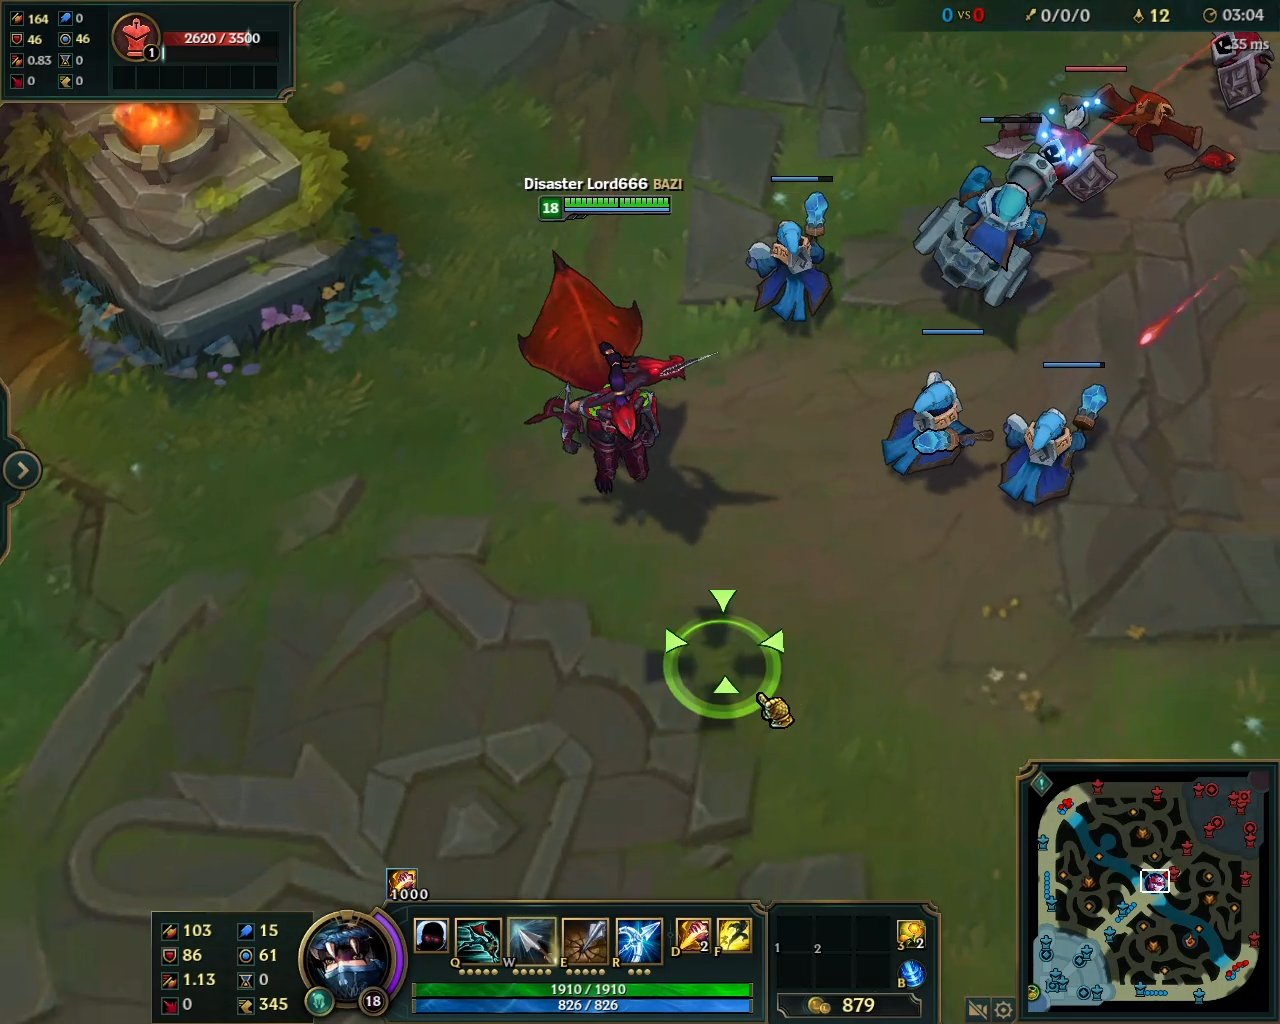Vayne: (514, 245, 718, 509)
